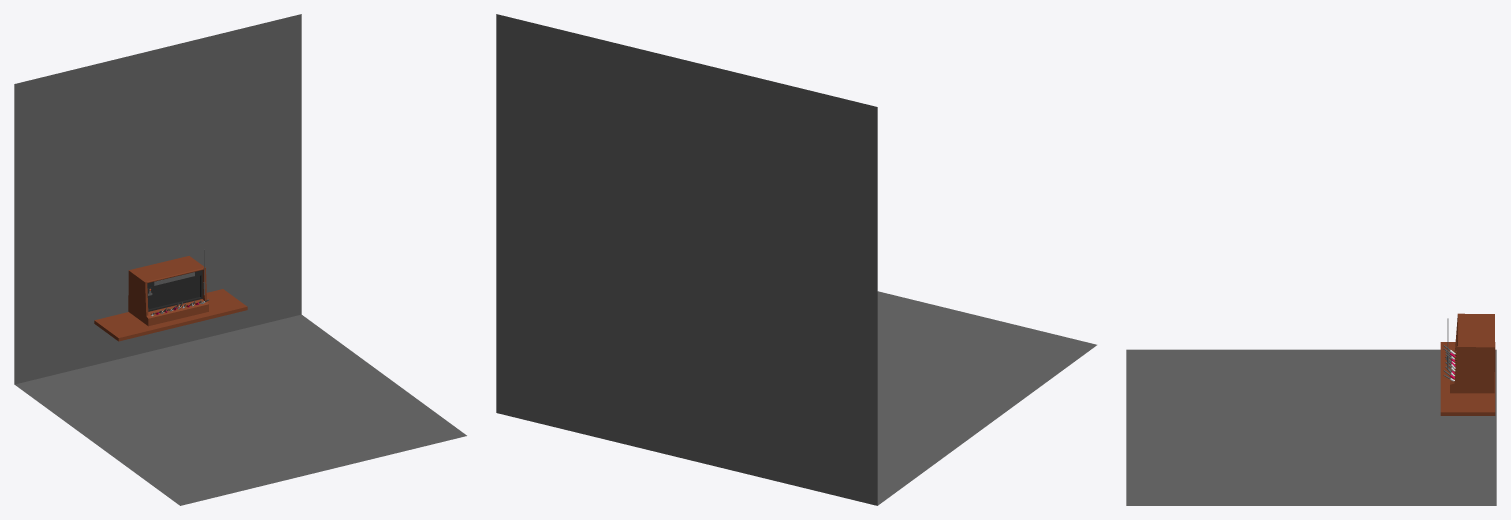
File: BlockOut.fbx
3 renders of one model, left to right at view 1: azimuth 30°, elevation 25°; view 2: azimuth 150°, elevation 25°; view 3: azimuth 270°, elevation 25°, orthographic. The views are drawn at different scales.
Visible parts, largest first — view 1: Room, Switchboard, Table; view 2: Room; view 3: Room, Switchboard, Table.
Part boxes in pixels (left/top/right/bottom): Room: left=14, top=14, right=466, bottom=505; Switchboard: left=128, top=256, right=208, bottom=326; Table: left=94, top=289, right=247, bottom=341; Room: left=496, top=14, right=1096, bottom=505; Room: left=1126, top=349, right=1496, bottom=505; Switchboard: left=1450, top=313, right=1494, bottom=393; Table: left=1440, top=342, right=1495, bottom=415.
Size of the model in its own units: 401 by 401 by 401.
